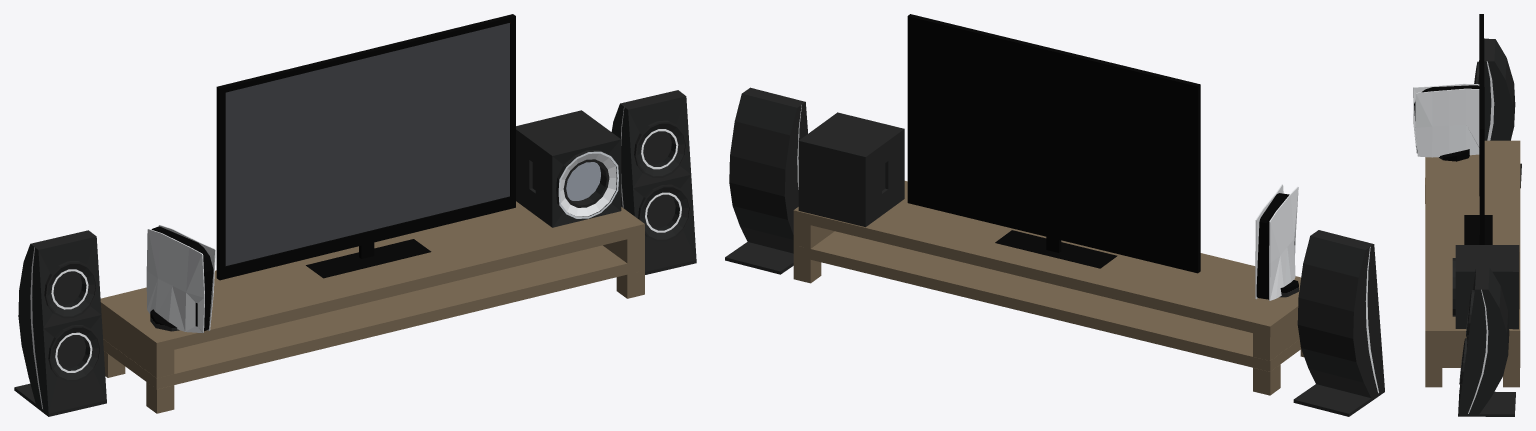
The model's file is Accesories_Entertainment_unit_B.glb.
3 views of the same model, side by side, from view 1: azimuth 30°, elevation 25°; view 2: azimuth 150°, elevation 25°; view 3: azimuth 270°, elevation 25° (orthographic). The views are drawn at different scales.
Parts seen in each view (by area): view 1: Accesories_Entertainment_unit_B; view 2: Accesories_Entertainment_unit_B; view 3: Accesories_Entertainment_unit_B.
Boxes of the visible parts, x1=… form: Accesories_Entertainment_unit_B: x1=14, y1=14, x2=696, y2=416; Accesories_Entertainment_unit_B: x1=725, y1=14, x2=1384, y2=416; Accesories_Entertainment_unit_B: x1=1413, y1=14, x2=1521, y2=416.
Size of the model in its own units: 3.83 by 1.58 by 0.7013.
1 material, 1 textured.
